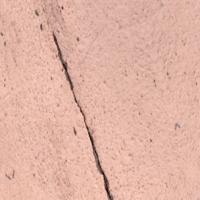crack: (40, 26, 130, 199)
